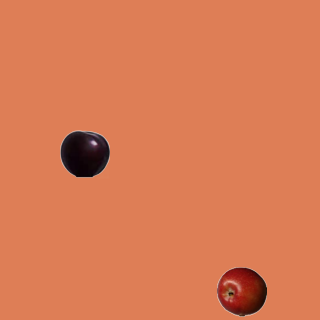Apple Braeburn: (216, 266, 266, 316)
Cherry Wax Black: (59, 128, 109, 178)
